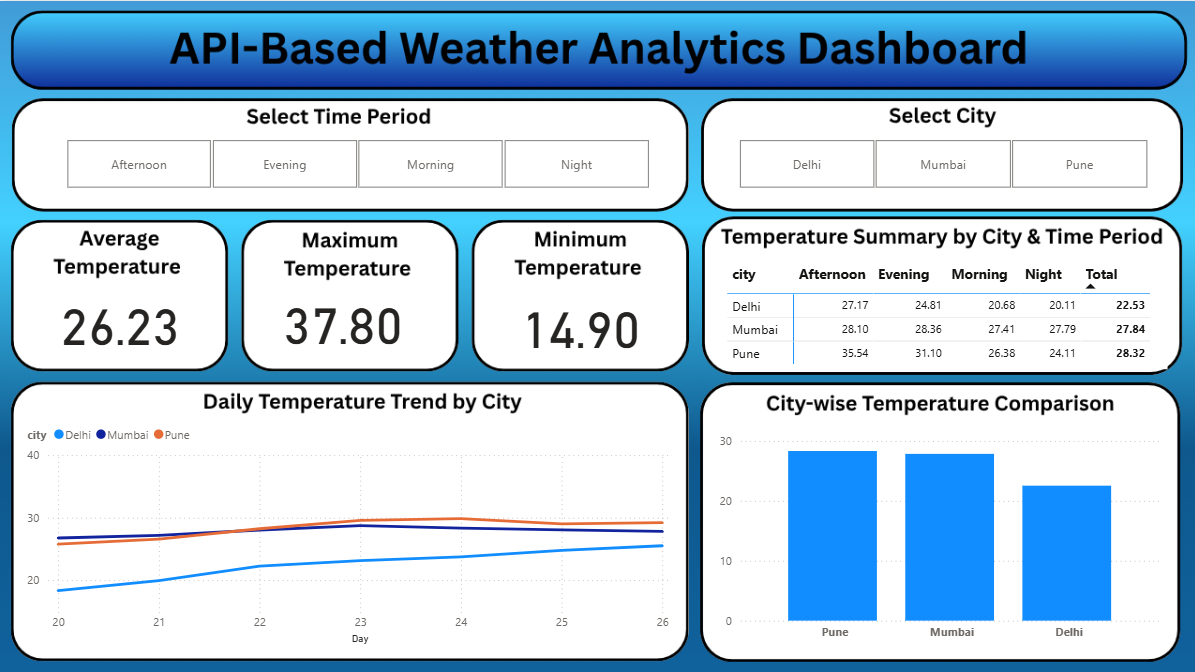

Layout of this report page (visuals, bound fields, positions):
{"tool":"powerbi","page":{"name":"Page 1","canvas":[1280,720],"ordinal":0},"visuals":[{"type":"slicer","fields":{"Values":["weather_cities_clean.period"]},"box":[46.1,140.7,670,64.8],"z":0},{"type":"card","fields":{"Values":["Max(weather_cities_clean.temperature_2m)"]},"box":[274,302.6,188.1,74.7],"z":1000},{"type":"card","fields":{"Values":["Min(weather_cities_clean.temperature_2m)"]},"box":[525.6,312.6,190.5,64.8],"z":2000},{"type":"lineChart","fields":{"Y":["Avg(weather_cities_clean.temperature_2m)"],"Series":["weather_cities_clean.city"],"Category":["weather_cities_clean.date.Variation.Date Hierarchy.Day"]},"box":[24.7,442.4,697.4,248.5],"z":3000},{"type":"pivotTable","fields":{"Rows":["weather_cities_clean.city"],"Columns":["weather_cities_clean.period"],"Values":["Avg(weather_cities_clean.temperature_2m)"]},"box":[772.1,271.5,474.5,120.8],"z":4000},{"type":"clusteredColumnChart","title":"Avg Temperature by Period","fields":{"Category":["weather_cities_clean.city"],"Y":["Avg(weather_cities_clean.temperature_2m)"]},"box":[763.7,442.4,482.7,248.5],"z":5000},{"type":"slicer","title":" Select City","fields":{"Values":["weather_cities_clean.city"]},"box":[763.4,140.7,484.5,64.8],"z":6000},{"type":"card","fields":{"Values":["Avg(weather_cities_clean.temperature_2m)"]},"box":[29.9,305.1,200.5,72.2],"z":7000}]}

Visuals, with their boxes in screenshot pixels (x1, y1, x2, y2), scaled from the page's 1280x720 canvas onto the 1195x672 screenshot:
slicer - weather_cities_clean.period: select_region(43, 131, 669, 192)
card - Max(weather_cities_clean.temperature_2m): select_region(256, 282, 431, 352)
card - Min(weather_cities_clean.temperature_2m): select_region(491, 292, 669, 352)
lineChart - Avg(weather_cities_clean.temperature_2m) x weather_cities_clean.city: select_region(23, 413, 674, 645)
pivotTable - weather_cities_clean.city x weather_cities_clean.period: select_region(721, 253, 1164, 366)
"Avg Temperature by Period" clusteredColumnChart: select_region(713, 413, 1164, 645)
" Select City" slicer: select_region(713, 131, 1165, 192)
card - Avg(weather_cities_clean.temperature_2m): select_region(28, 285, 215, 352)
